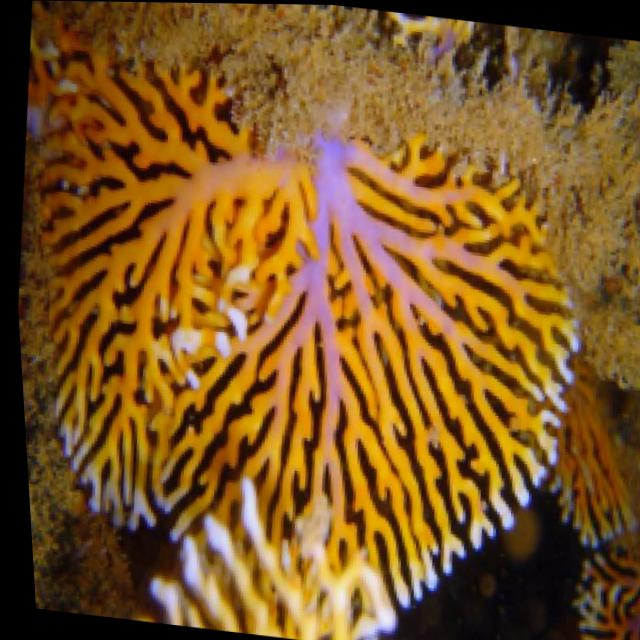Healthy Coral: (1, 26, 623, 638)
